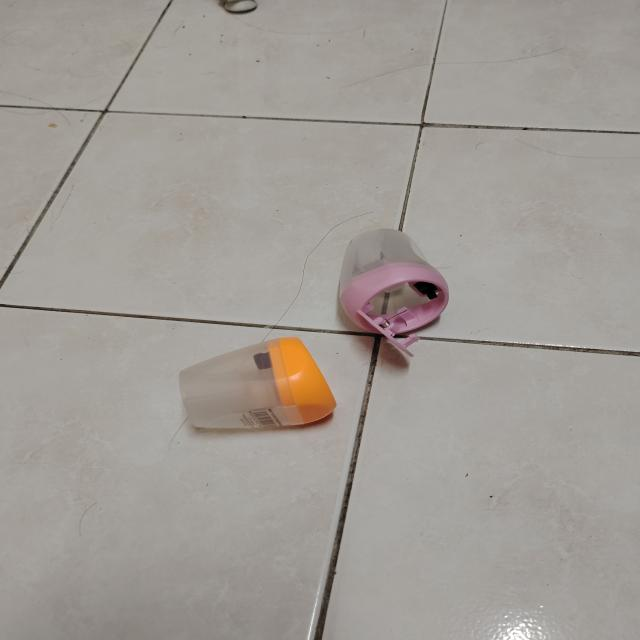sharpener: (179, 338, 336, 429), (339, 229, 449, 356)
